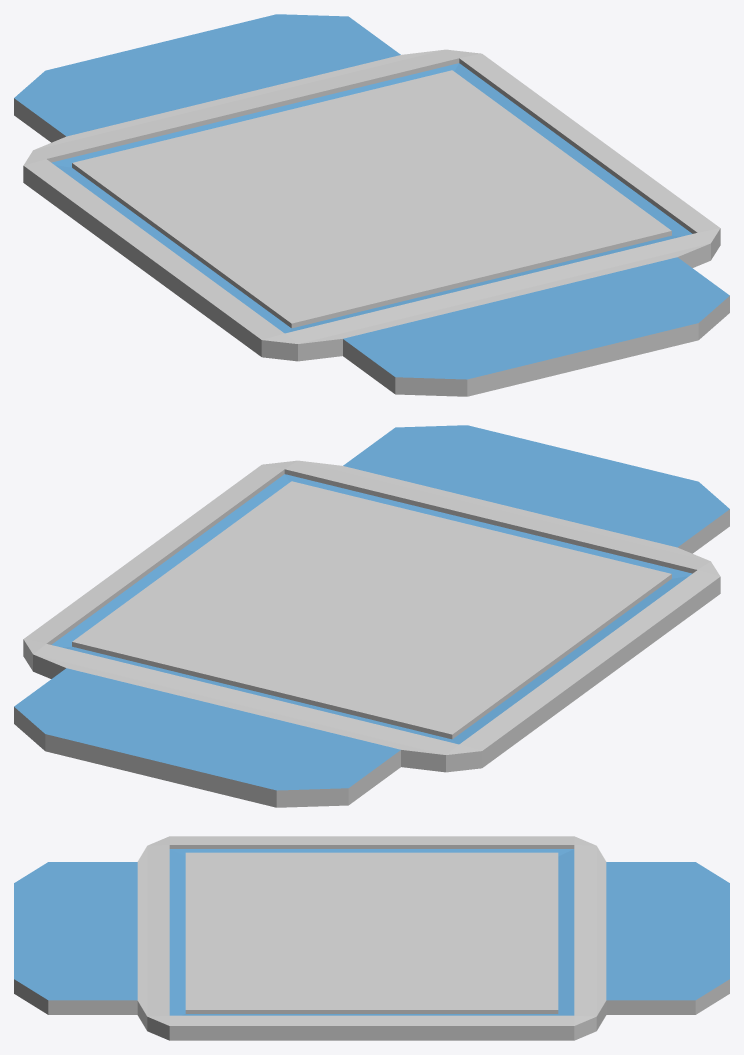
The model's file is ground_04.fbx.
The picture shows the model from 3 angles, top to bottom: view 1: azimuth 30°, elevation 25°; view 2: azimuth 150°, elevation 25°; view 3: azimuth 270°, elevation 25°; orthographic projection. The views are drawn at different scales.
Visible parts, largest first — view 1: Cube.013; view 2: Cube.013; view 3: Cube.013.
Boxes of the visible parts, x1,y1,x2,y2 form: Cube.013: (14,14,729,396); Cube.013: (14,425,729,807); Cube.013: (14,836,729,1040).
Bounding box in the file's own units: 1000 × 40 × 1593.
